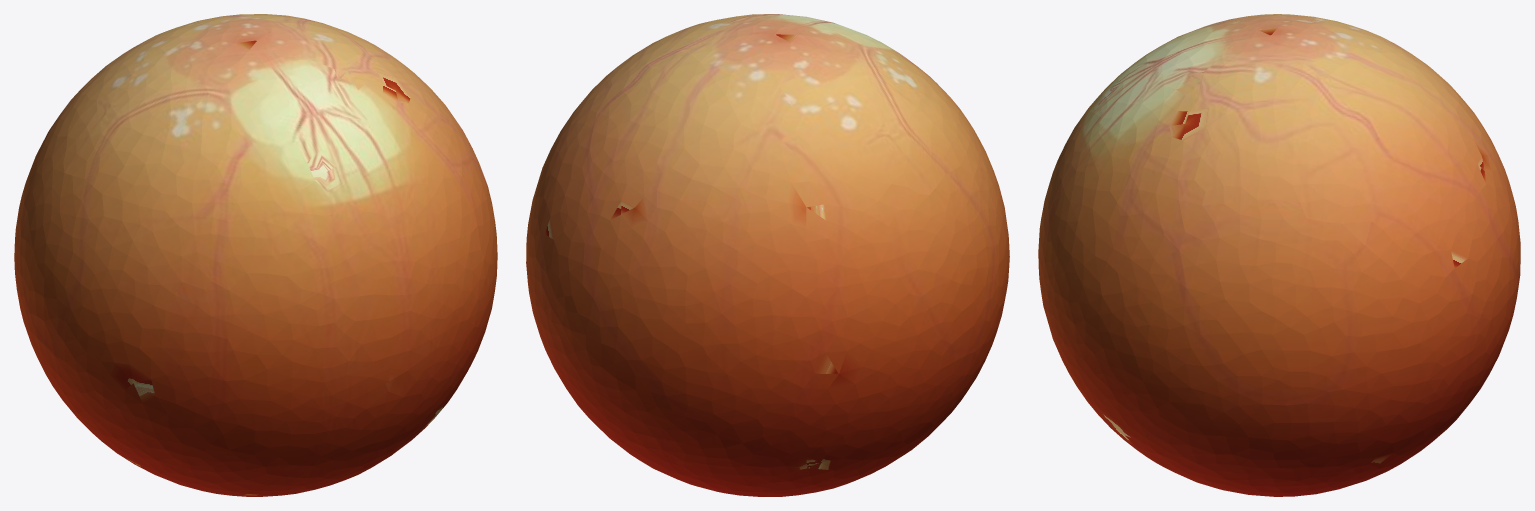
Rendered from MacularDegeneration.glb.
The picture shows the model from 3 angles, left to right: view 1: azimuth 30°, elevation 25°; view 2: azimuth 150°, elevation 25°; view 3: azimuth 270°, elevation 25°; orthographic projection.
Visible parts, largest first — view 1: MacularDegeneration; view 2: MacularDegeneration; view 3: MacularDegeneration.
Boxes of the visible parts, left/top/right/bottom form: MacularDegeneration: left=14, top=14, right=497, bottom=496; MacularDegeneration: left=526, top=14, right=1009, bottom=496; MacularDegeneration: left=1038, top=14, right=1520, bottom=496.
Bounding box in the file's own units: 0.9997 × 0.9995 × 0.9996.
1 material, 1 textured.
